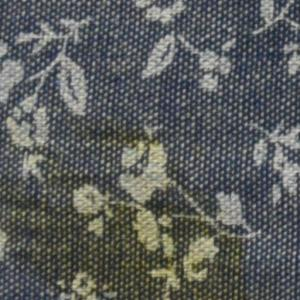Stain: (1, 119, 258, 300)
